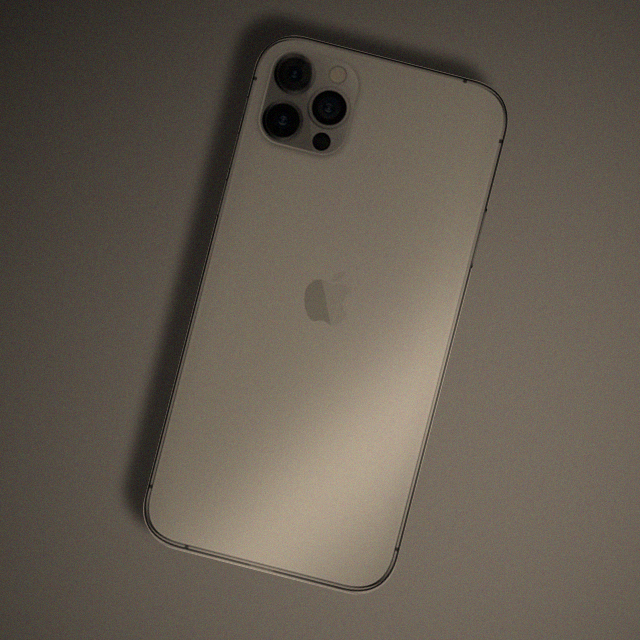iphone_12pro_silver: (136, 30, 520, 622), (255, 45, 373, 172)
